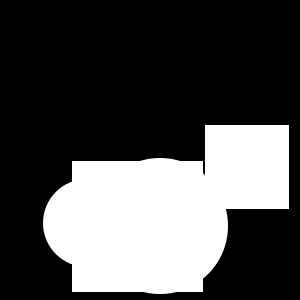circle: (72, 161, 203, 292), (205, 125, 289, 209)
rectangle: (92, 158, 228, 294), (43, 179, 131, 267)
